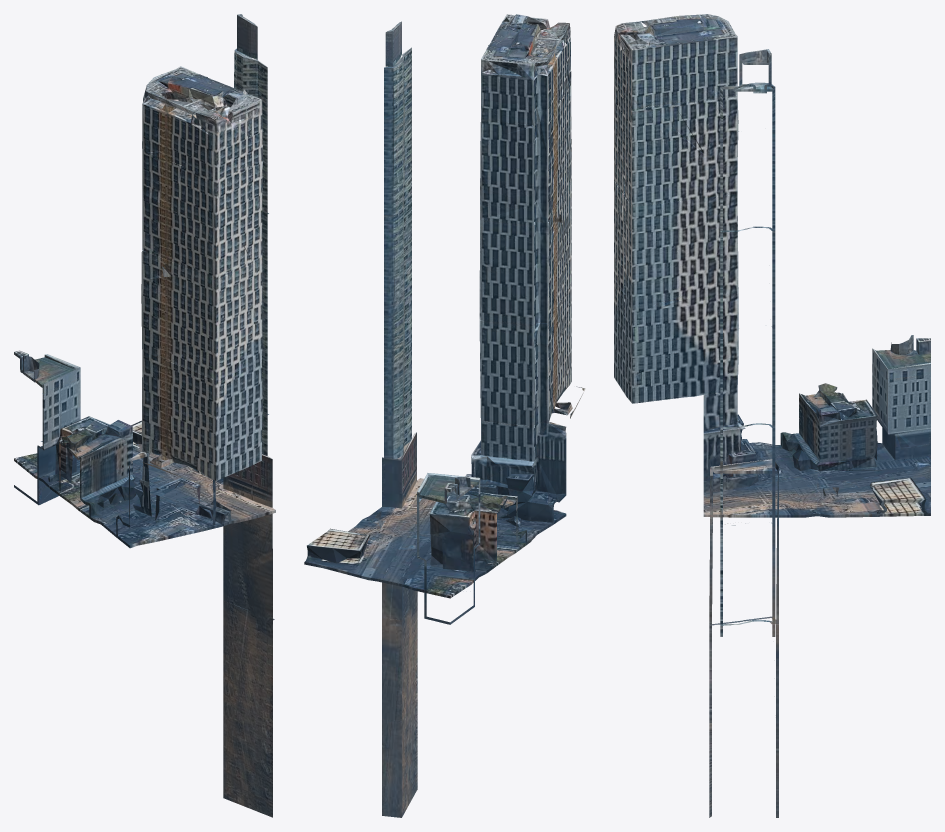
The model's file is chunk_5_-1.glb.
The picture shows the model from 3 angles, left to right: view 1: azimuth 30°, elevation 25°; view 2: azimuth 150°, elevation 25°; view 3: azimuth 270°, elevation 25°; orthographic projection. The views are drawn at different scales.
Visible parts, largest first — view 1: hero-chunk; view 2: hero-chunk; view 3: hero-chunk.
Boxes of the visible parts, box(x1,y1,x2,y2) form: hero-chunk: box(14, 14, 275, 817); hero-chunk: box(304, 14, 585, 817); hero-chunk: box(614, 14, 930, 817).
Bounding box in the file's own units: 56.66 × 284 × 106.
Materials: 7 (7 with a texture image).
